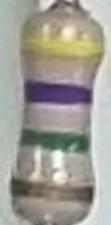Blue: (23, 80, 94, 111)
Green: (18, 125, 90, 157)
Side-Silver: (10, 174, 97, 205)
Yellow: (18, 32, 106, 67)
